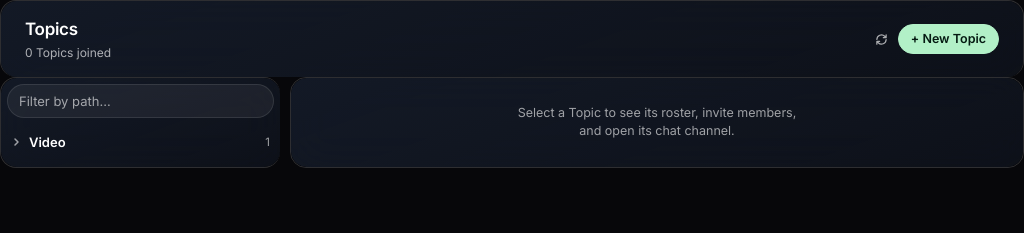
Test case: QURATOR-145 (W3) — the cross-mount directory cache › an EMPTY answer is never written: the last-known-good tree survives as the next landing screen
The image size is (1024, 233).
Click the button with class "root-header".
click(47, 142)  # box [7,124,274,161]
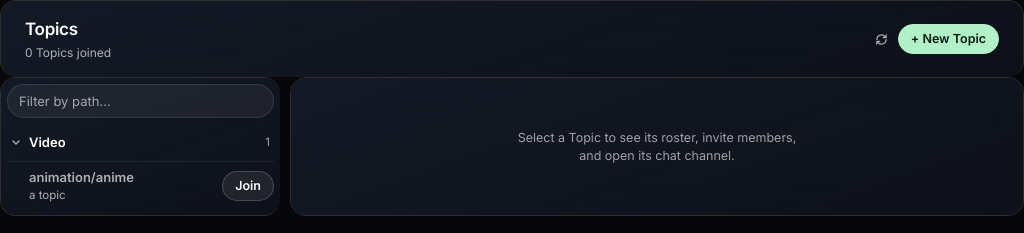
Check: the text "animation/anime" is shown, box [29,169,134,185]
